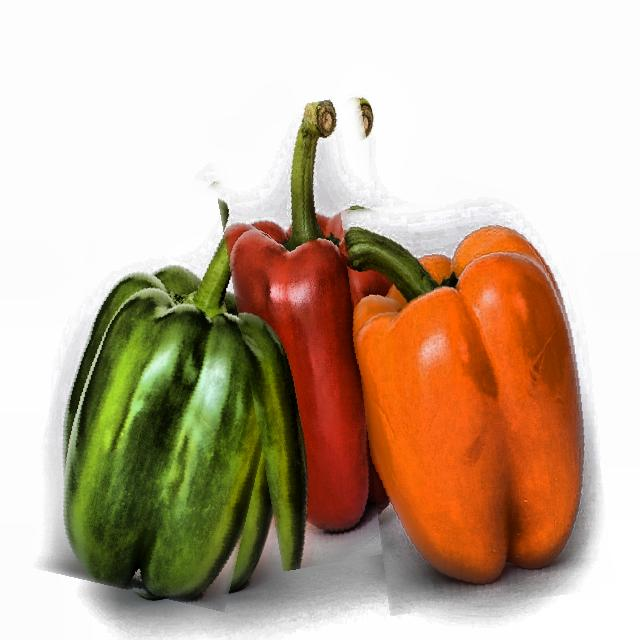capsicum: (352, 190, 603, 610)
green pepper: (36, 168, 296, 603)
red capsicum: (223, 99, 418, 566)
